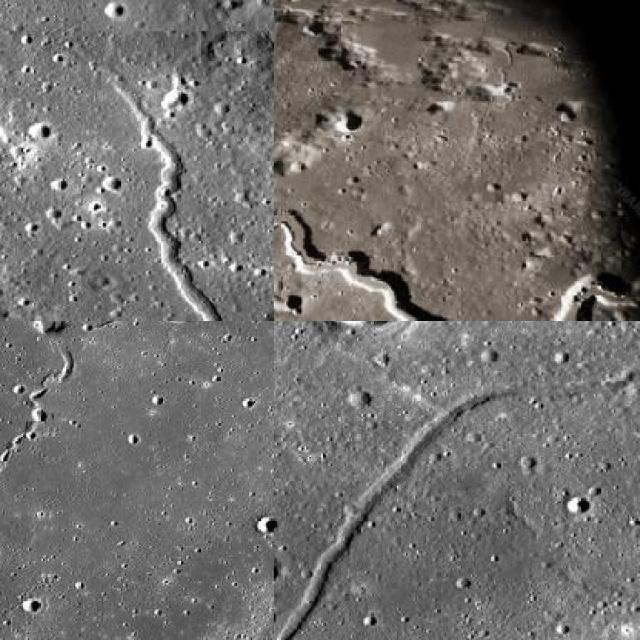rille: (274, 337, 638, 638), (274, 131, 638, 318), (63, 77, 226, 318), (0, 342, 77, 638)
